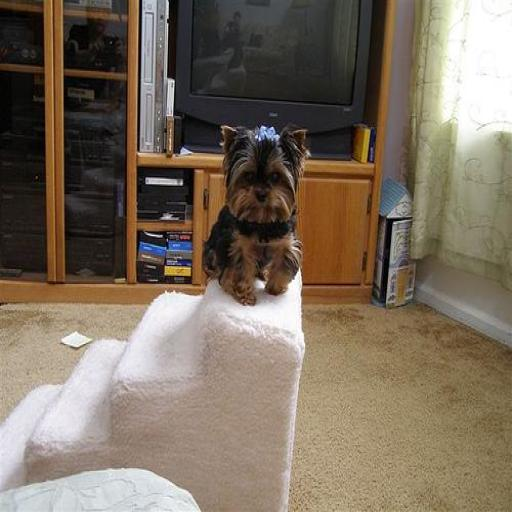dog_face: (216, 124, 310, 235)
